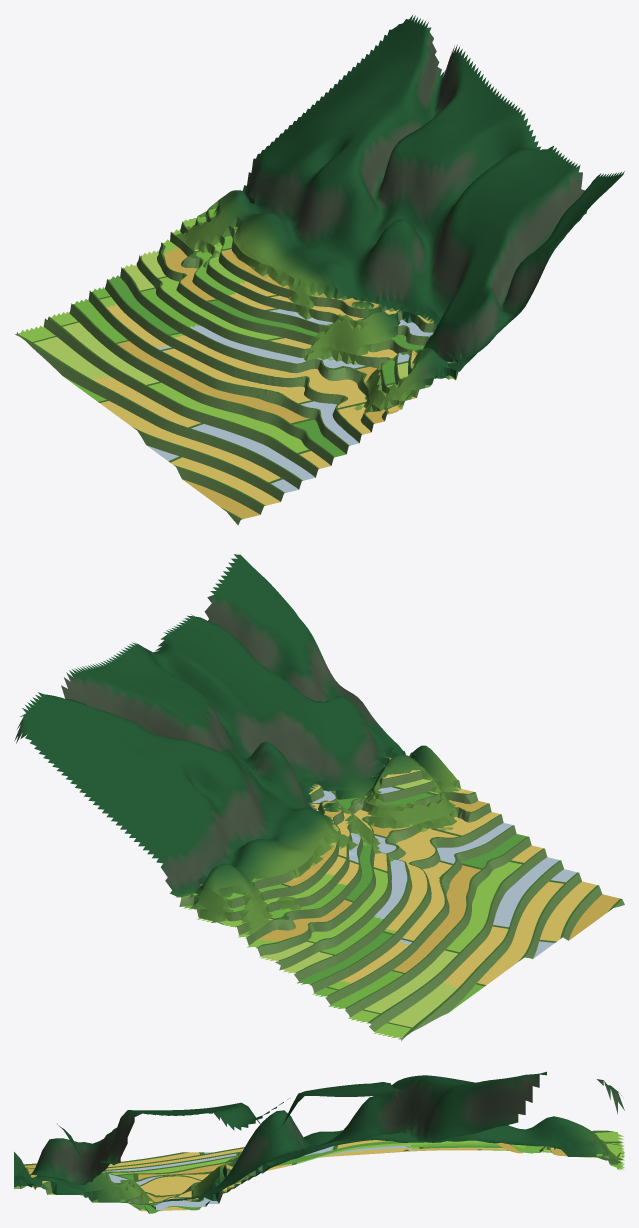
File: payo_land_xm1_y2.glb
3 renders of one model, top to bottom at view 1: azimuth 30°, elevation 25°; view 2: azimuth 150°, elevation 25°; view 3: azimuth 270°, elevation 25°, orthographic. The views are drawn at different scales.
Visible parts, largest first — view 1: payo_land_xm1_y2; view 2: payo_land_xm1_y2; view 3: payo_land_xm1_y2.
Boxes of the visible parts, x1,y1,x2,y2 form: payo_land_xm1_y2: (15, 15, 624, 525); payo_land_xm1_y2: (14, 554, 624, 1041); payo_land_xm1_y2: (14, 1071, 624, 1213).
Bounding box in the file's own units: 258 × 167 × 258.
